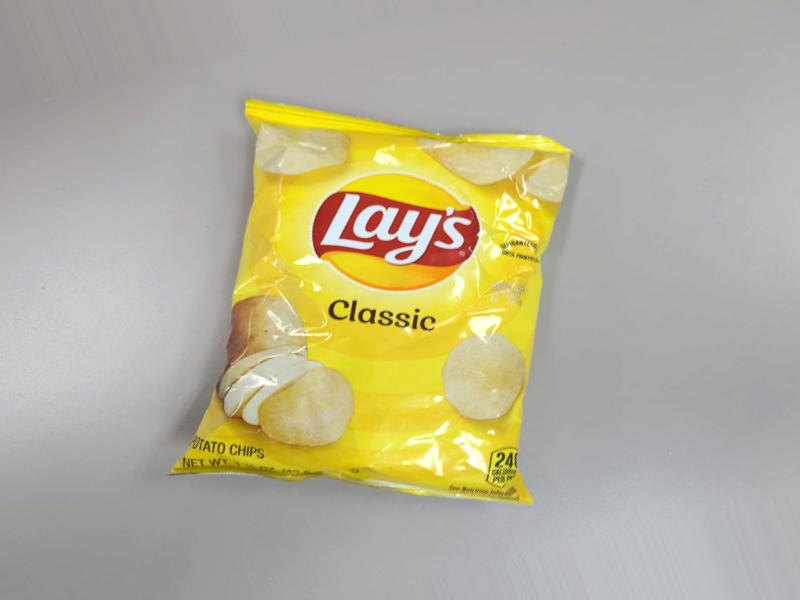lays: (226, 101, 548, 553)
